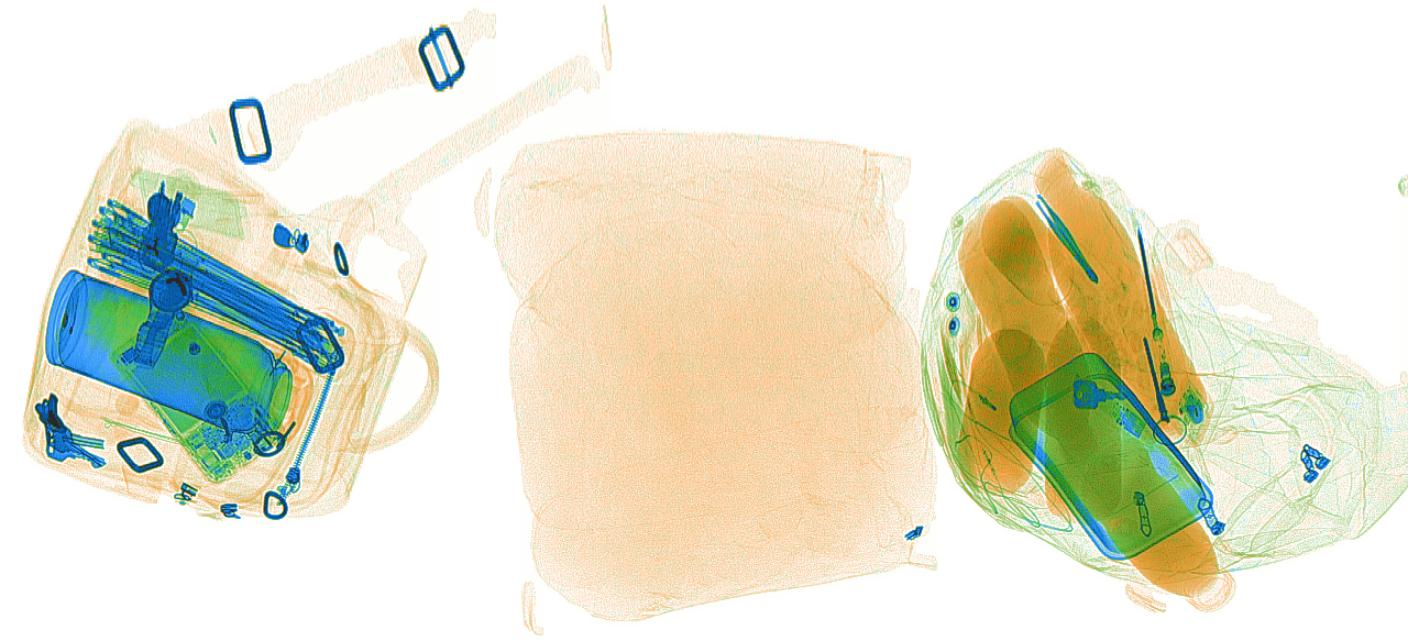USBFlashDisk: (1078, 385, 1149, 439)
